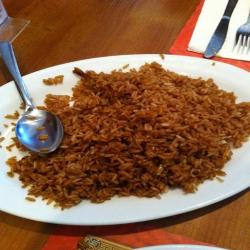rice: (36, 61, 244, 206)
